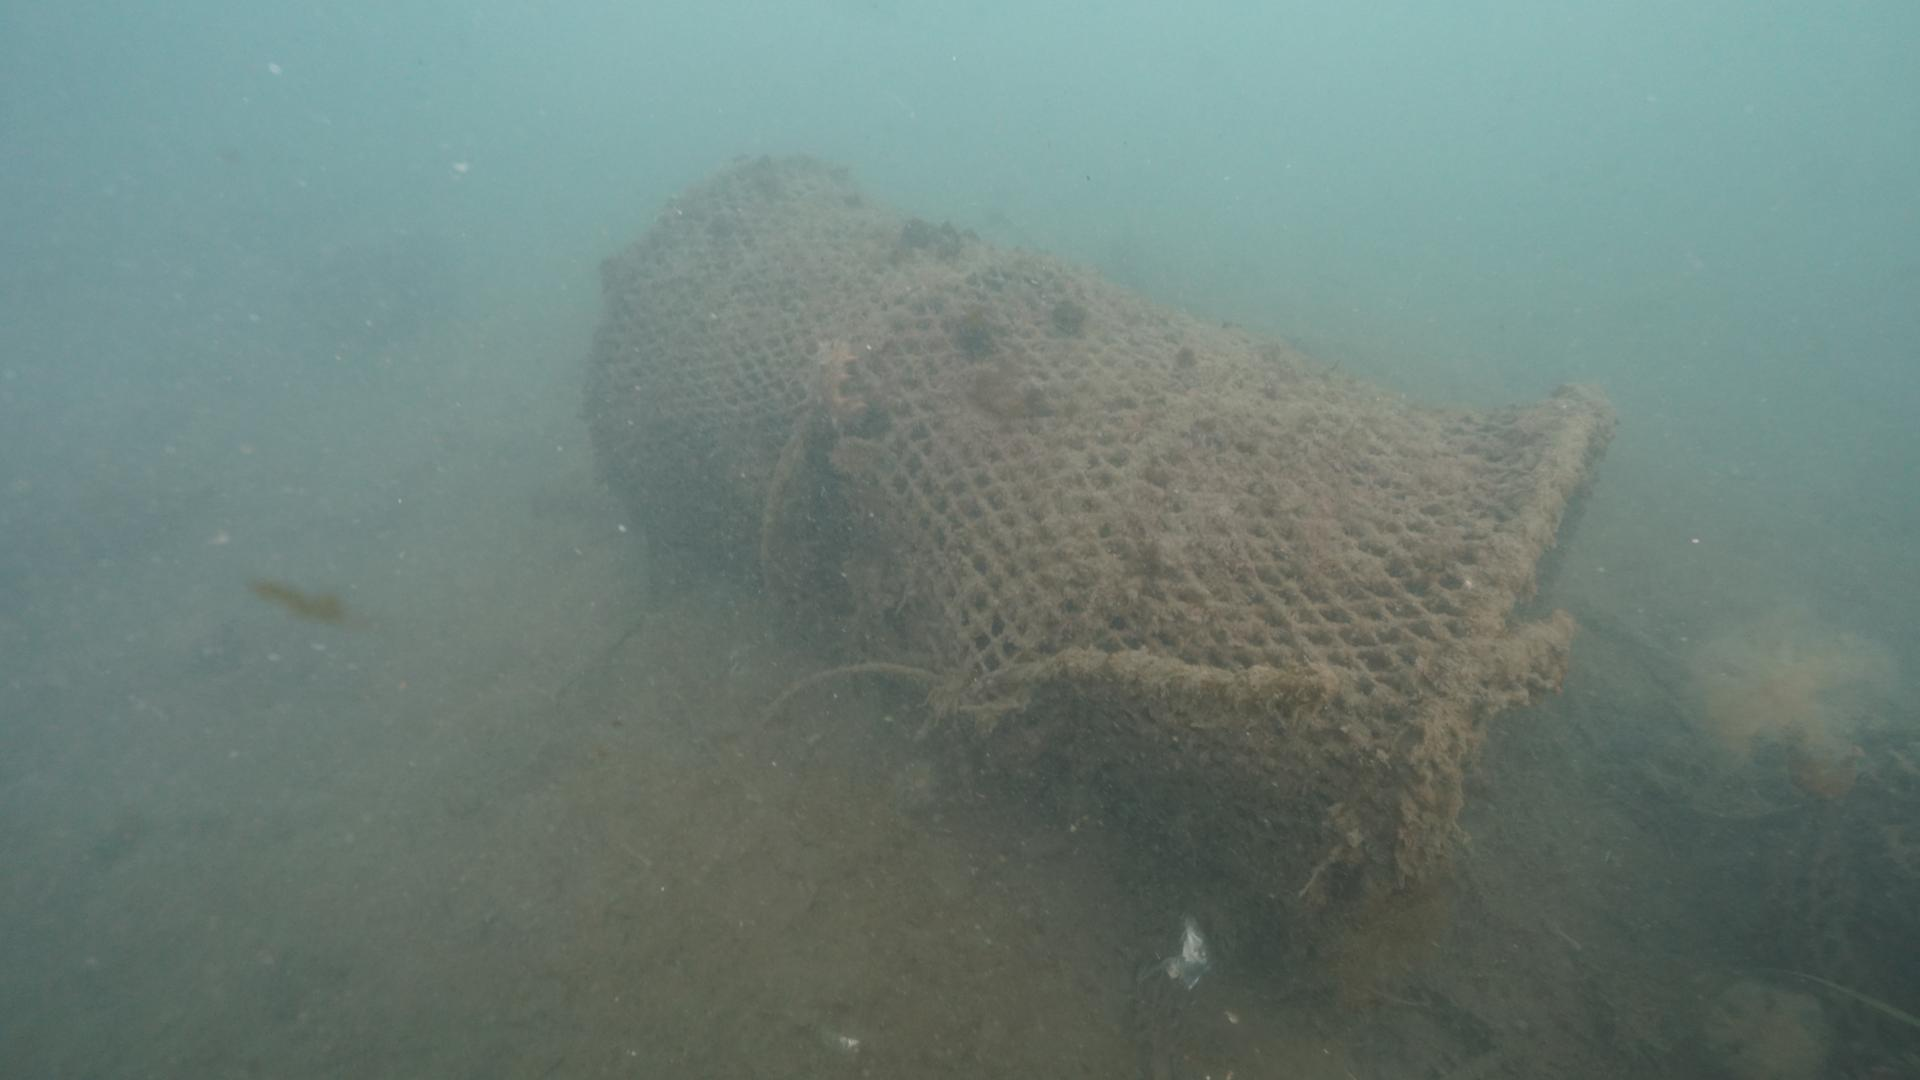spring fish trap: (574, 140, 1623, 975)
